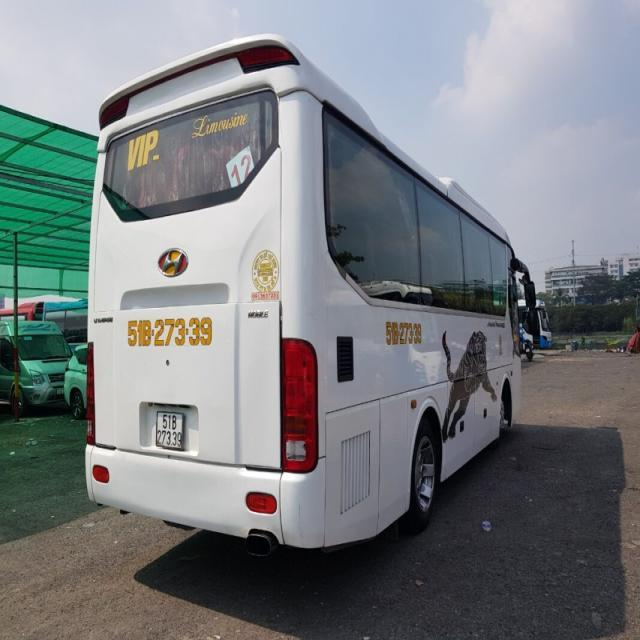car: (85, 11, 535, 550), (2, 308, 82, 424)
plate: (144, 403, 195, 455)
